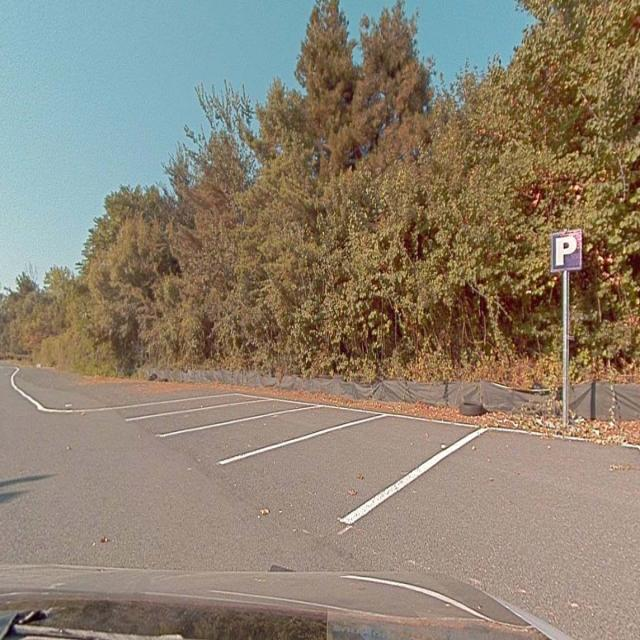park: (551, 232, 582, 270)
